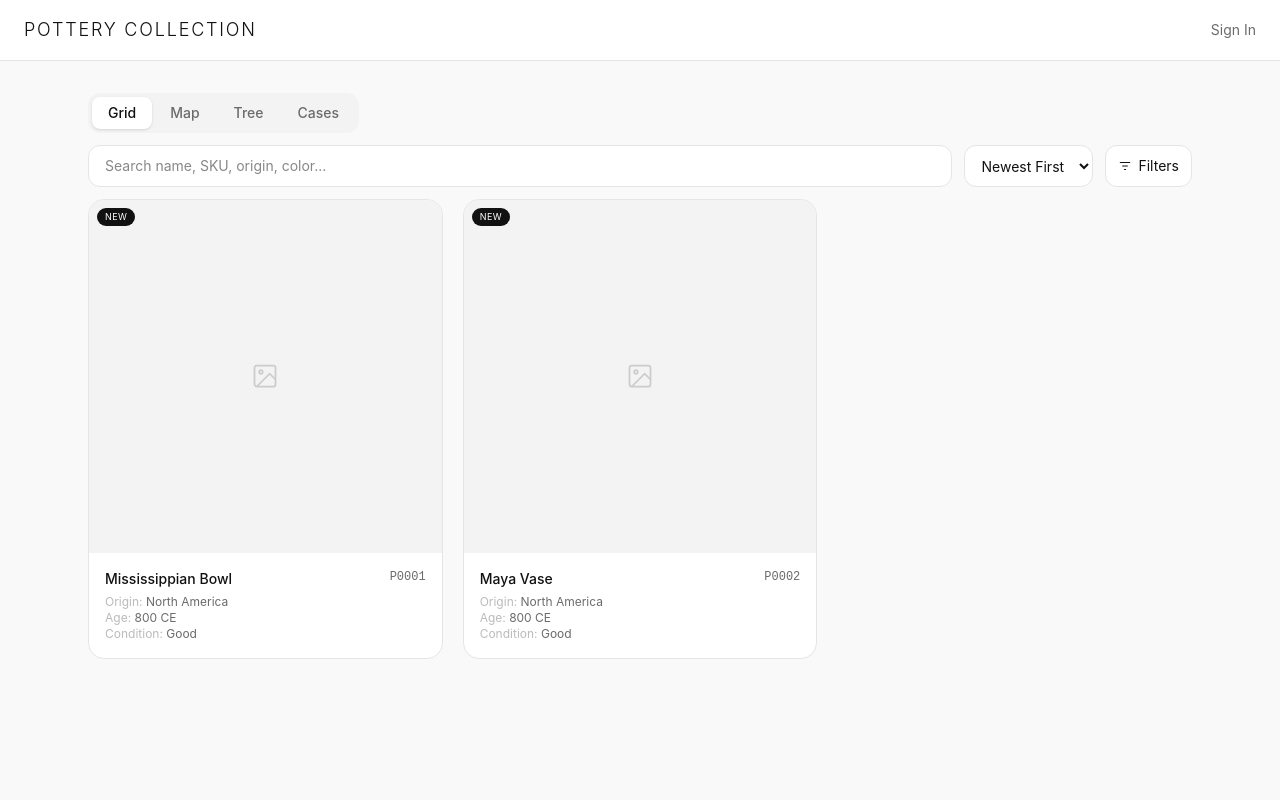
Test: HomePage › filters items by the search box
The width and height of the screenshot is (1280, 800).
Expected: the heading "Mississippian Bowl" is shown, [105,569,232,588]
Type "maya" into the search field with placeholder "Search name, SKU, origin, color..." at (520, 166), box [88,145,952,187]
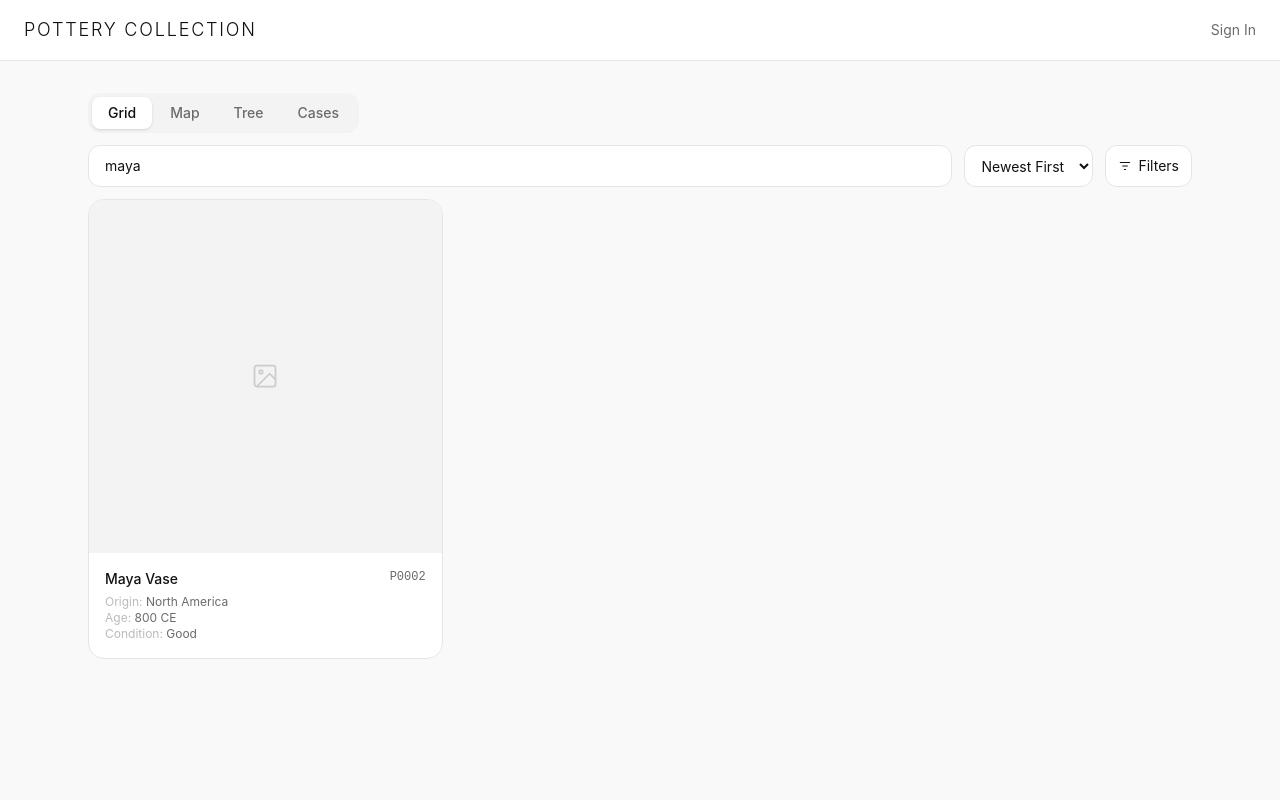
Expected: the heading "Maya Vase" is shown, [105,569,178,588]
Expected: the link "Mississippian Bowl" is gone
